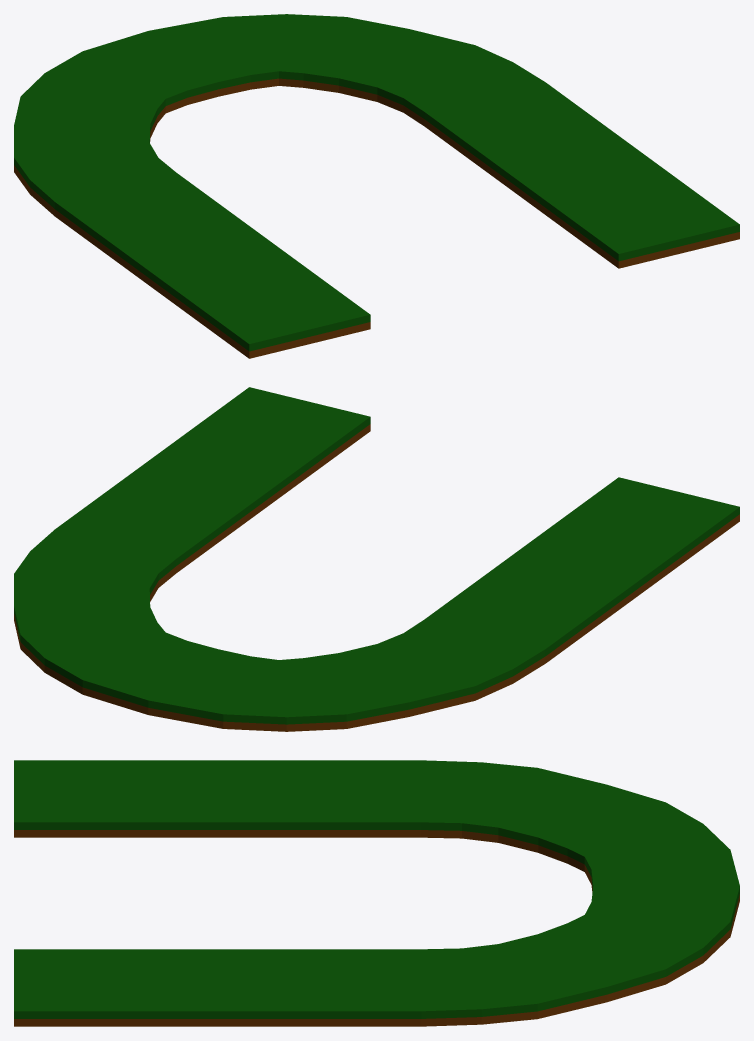
The model's file is PIEZA ESCENARIO 5.fbx.
3 renders of one model, top to bottom at view 1: azimuth 30°, elevation 25°; view 2: azimuth 150°, elevation 25°; view 3: azimuth 270°, elevation 25°, orthographic. The views are drawn at different scales.
Parts seen in each view (by area): view 1: Suelo 1.002; view 2: Suelo 1.002; view 3: Suelo 1.002.
Part boxes in pixels (x1,y1,x2,y2): Suelo 1.002: (14, 14, 739, 358); Suelo 1.002: (14, 387, 739, 731); Suelo 1.002: (14, 760, 739, 1026).
Bounding box in the file's own units: 5724 × 163 × 6997.
